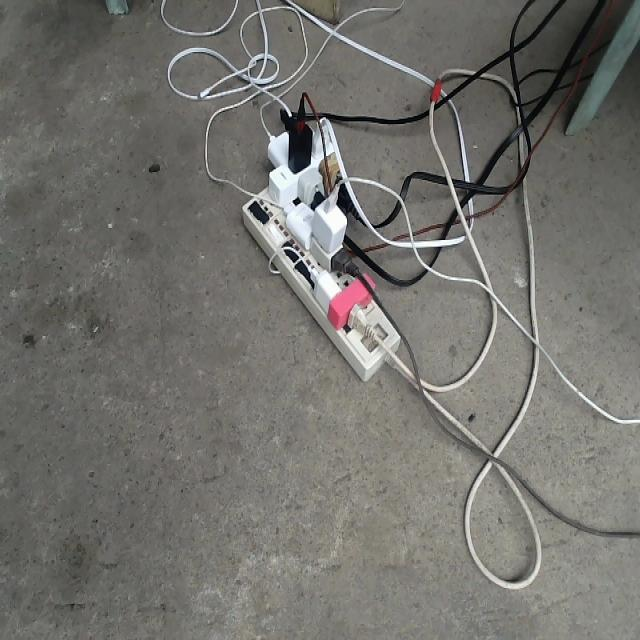-: (240, 89, 400, 379)
